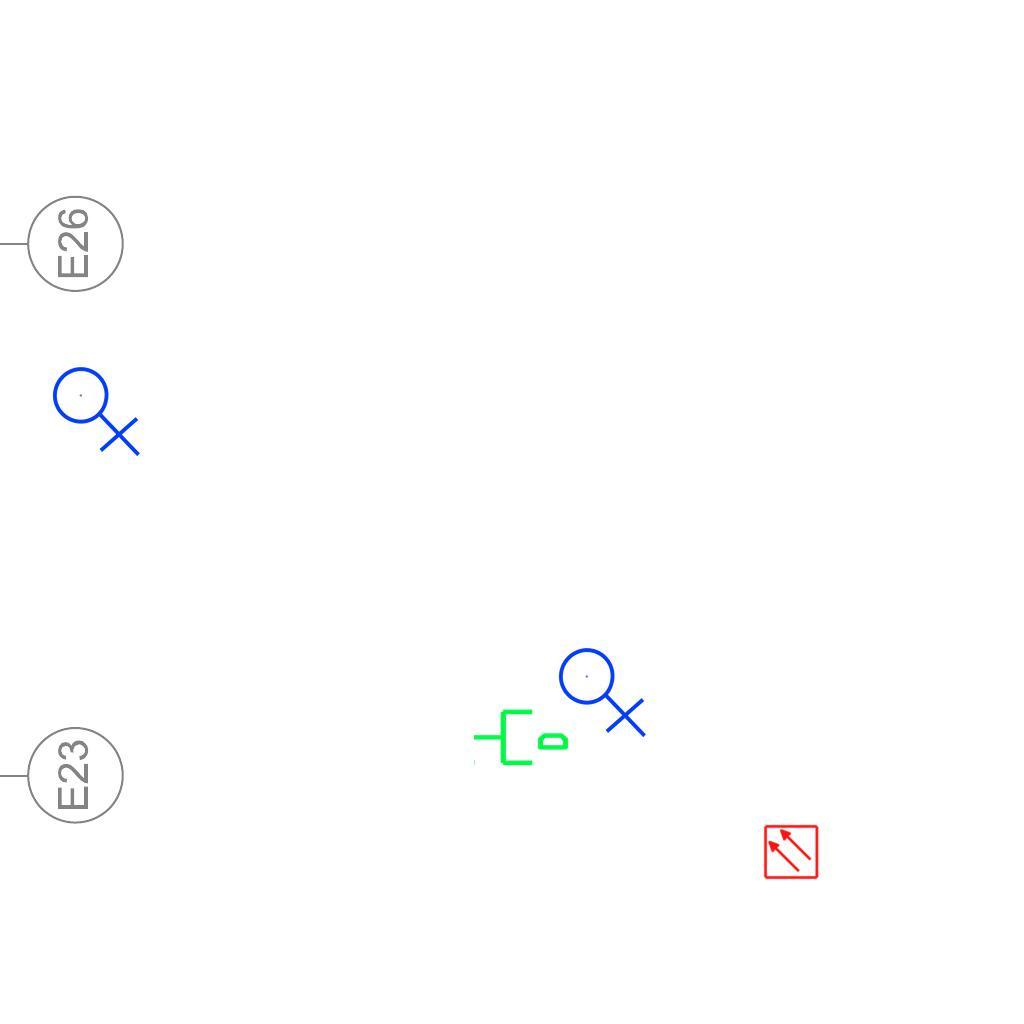Datenanschluss_einfach: (471, 701, 571, 770)
Elektroanschluss_allgemein_230V_Geraeteanschlussdose_230V: (51, 358, 145, 457), (557, 639, 651, 738)
RMO_Rauchmelder_optischer: (763, 824, 819, 880)
